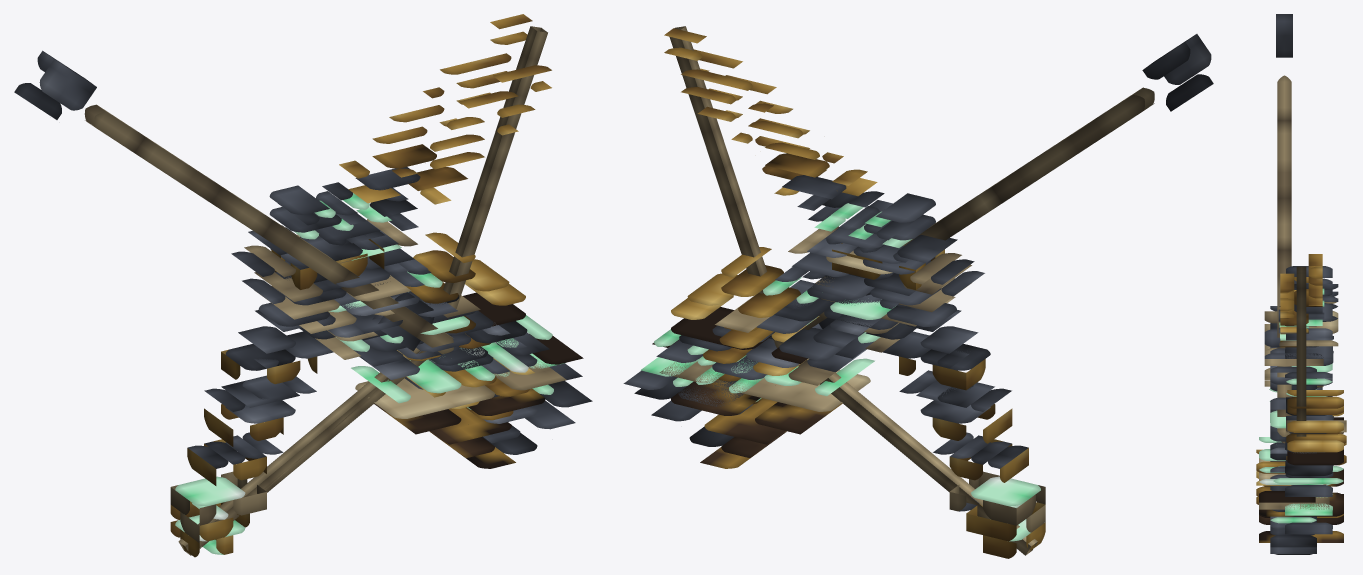
Rendered from steam_arbalest_pulling_1.obj.
3 views of the same model, side by side, from view 1: azimuth 30°, elevation 25°; view 2: azimuth 150°, elevation 25°; view 3: azimuth 270°, elevation 25° (orthographic). The views are drawn at different scales.
Visible parts, largest first — view 1: lit, fire; view 2: lit, fire; view 3: lit, fire.
Part boxes in pixels (box(x1,y1,x2,y2)): lit: box(14, 14, 592, 557); fire: box(372, 281, 534, 420); lit: box(623, 26, 1213, 558); fire: box(703, 295, 835, 404); lit: box(1259, 14, 1343, 554); fire: box(1256, 420, 1346, 504).
Bounding box in the file's own units: 1.05 × 0.9664 × 0.2096.
